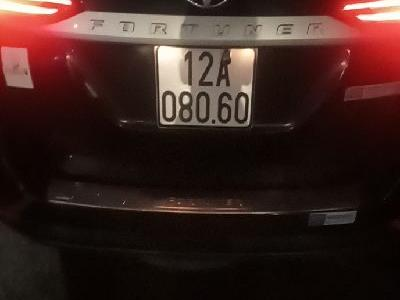number: (156, 40, 255, 128)
